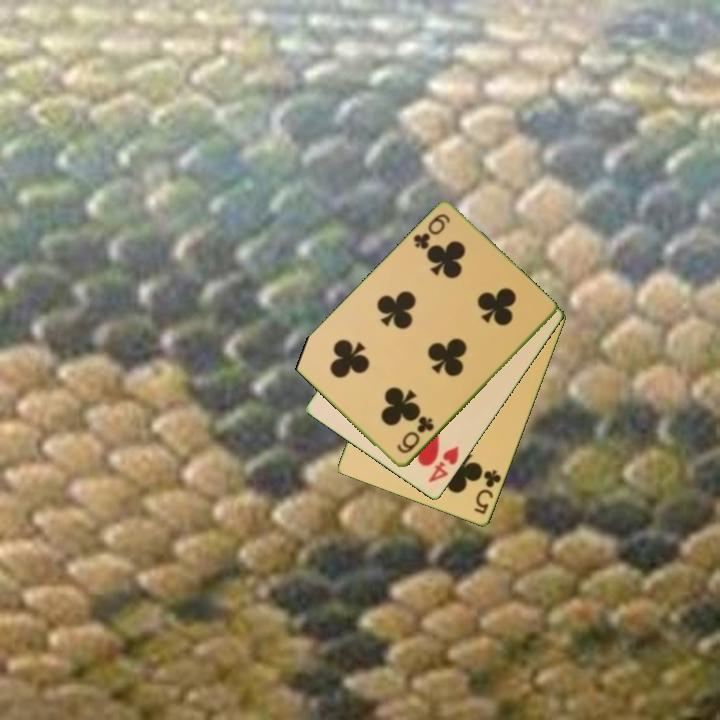4h: (424, 443, 462, 486)
5c: (470, 466, 504, 518)
6c: (394, 413, 437, 457), (410, 210, 453, 253)
